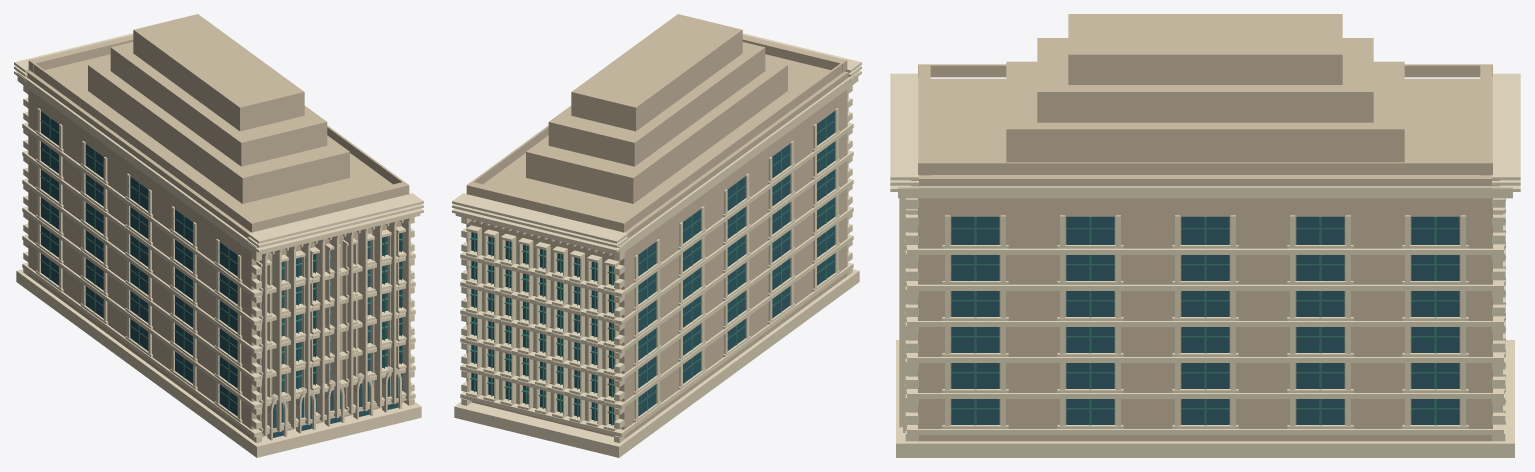
The model's file is rockbund-museum.glb.
3 views of the same model, side by side, from view 1: azimuth 30°, elevation 25°; view 2: azimuth 150°, elevation 25°; view 3: azimuth 270°, elevation 25° (orthographic). The views are drawn at different scales.
Visible parts, largest first — view 1: rockbund-museum; view 2: rockbund-museum; view 3: rockbund-museum.
Boxes of the visible parts, x1,y1,x2,y2 form: rockbund-museum: [14, 14, 423, 457]; rockbund-museum: [452, 14, 861, 457]; rockbund-museum: [890, 14, 1520, 457].
Size of the model in its own units: 12.18 by 20.4 by 31.33.
